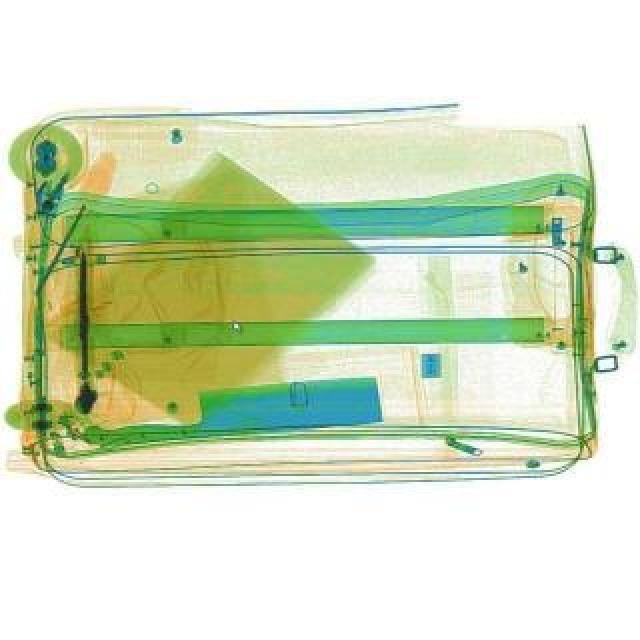knife: (80, 372, 382, 448)
